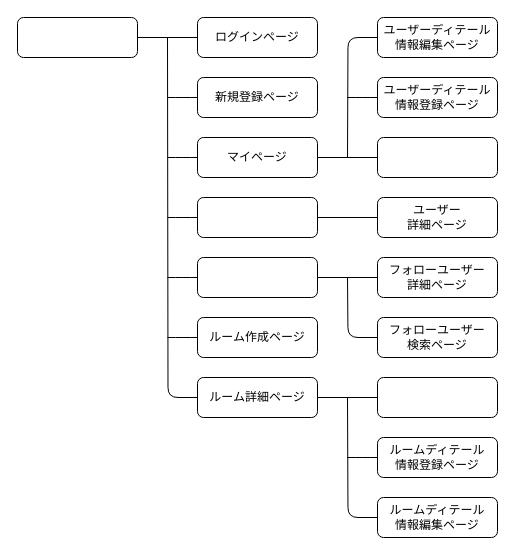
Image size: 515x555. Some labels were removed from this diagram. The box of each missing label's shape, as (x1, y1, x2, y2) in pixels:
トップページ: (16, 16, 138, 58)
フォローユーザー 一覧: (196, 256, 318, 298)
ユーザー一覧: (196, 196, 318, 238)
ユーザー編集ページ: (376, 136, 498, 178)
ルーム編集ページ: (376, 376, 498, 418)
